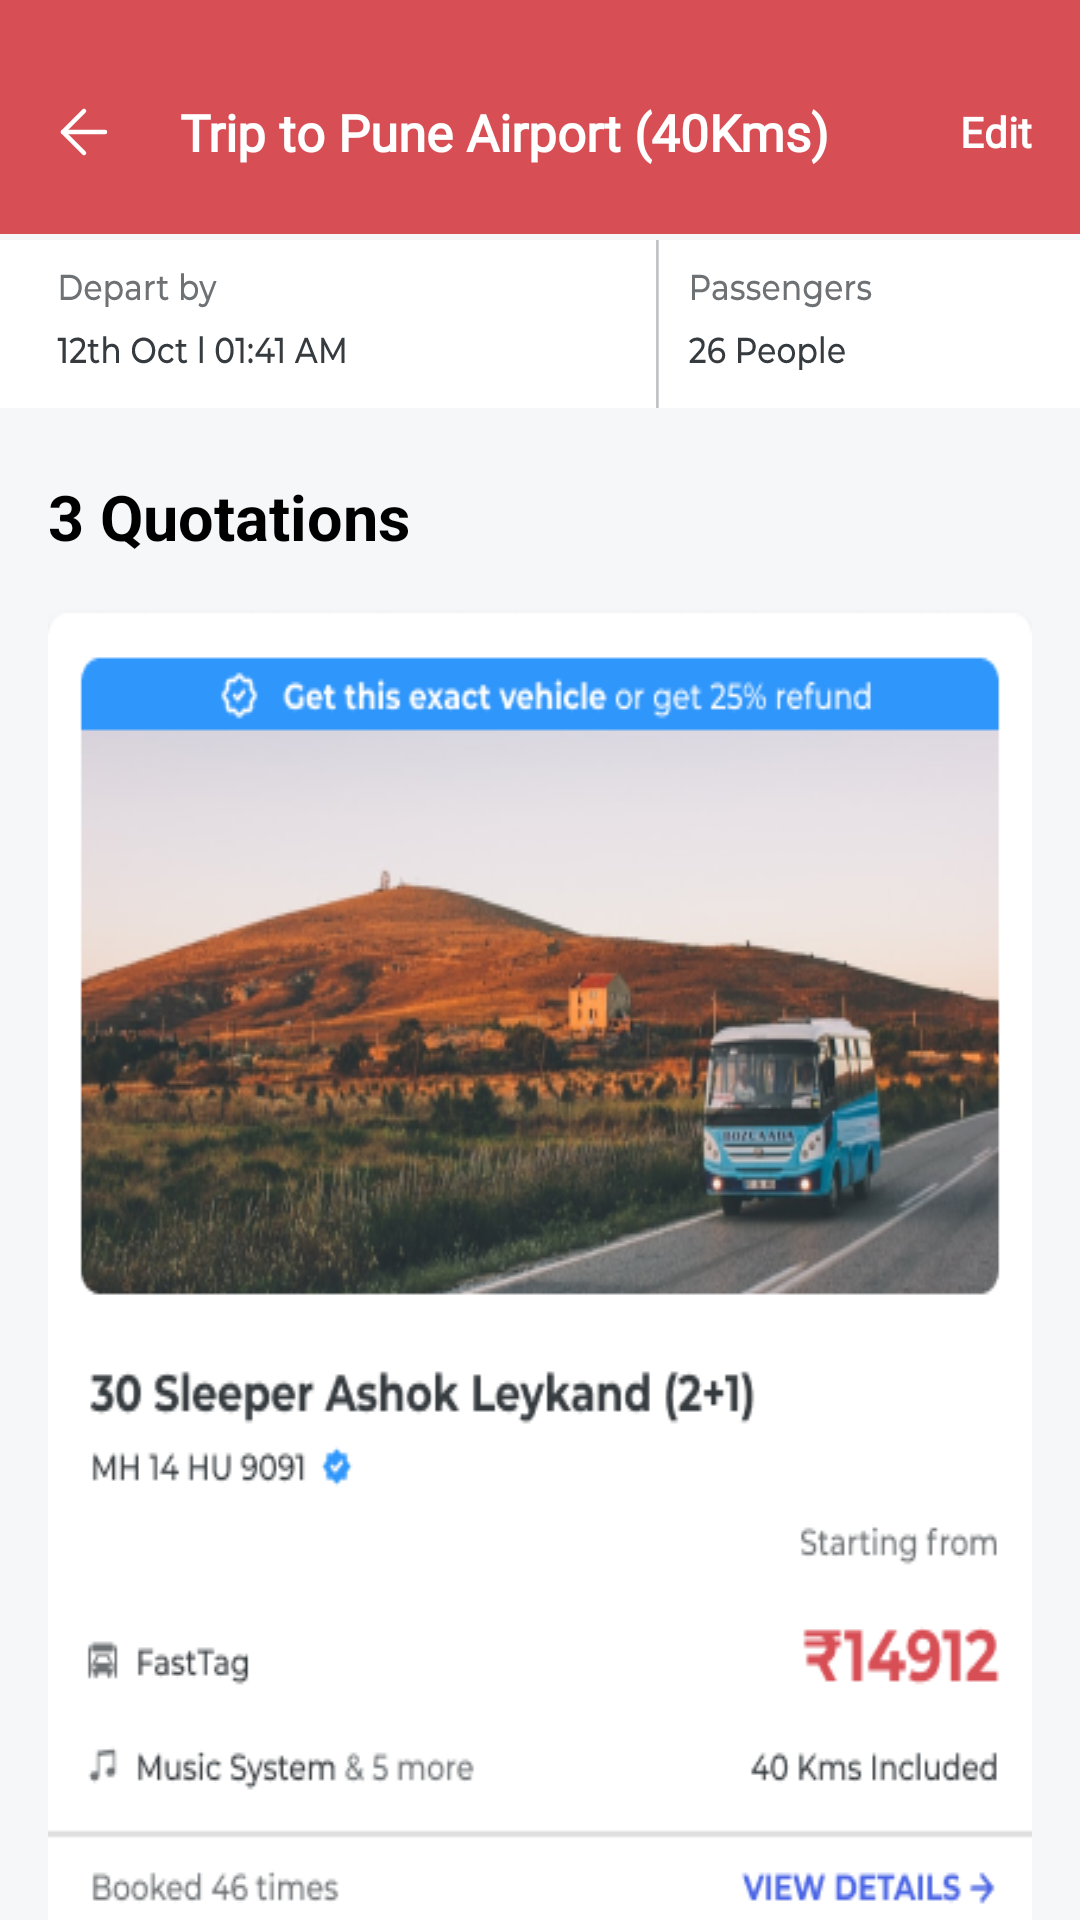

Icon click points for this 1080 × 1920 phone screenshot, format (x=x, y=y):
back arrow: (x=83, y=132)
